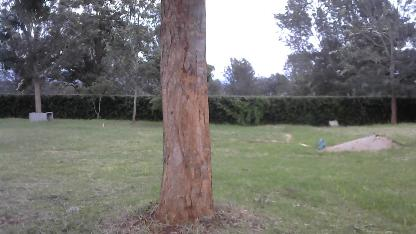tree: (154, 0, 219, 225)
